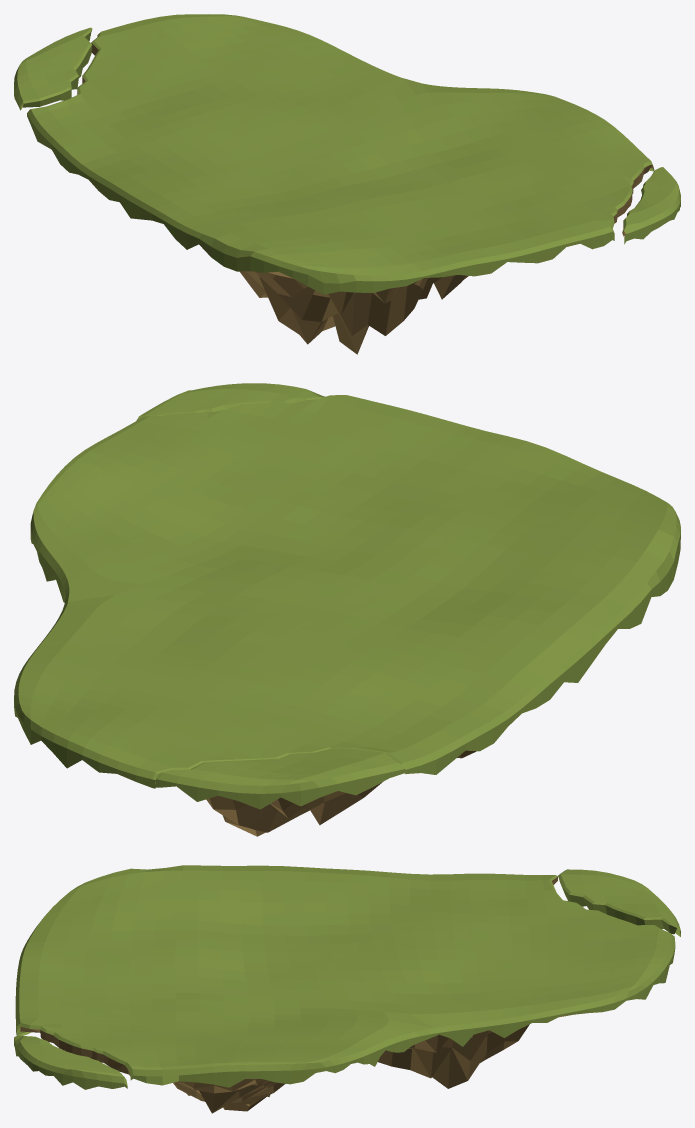
File: plateforme_grand_v3.fbx
The picture shows the model from 3 angles, top to bottom: view 1: azimuth 30°, elevation 25°; view 2: azimuth 150°, elevation 25°; view 3: azimuth 270°, elevation 25°; orthographic projection. The views are drawn at different scales.
Parts seen in each view (by area): view 1: Plane.002; view 2: Plane.002; view 3: Plane.002.
Part boxes in pixels (left/top/right/bottom): Plane.002: left=14, top=14, right=680, bottom=354; Plane.002: left=14, top=383, right=680, bottom=836; Plane.002: left=14, top=865, right=680, bottom=1113.
Bounding box in the file's own units: 1130 × 408 × 1510.
